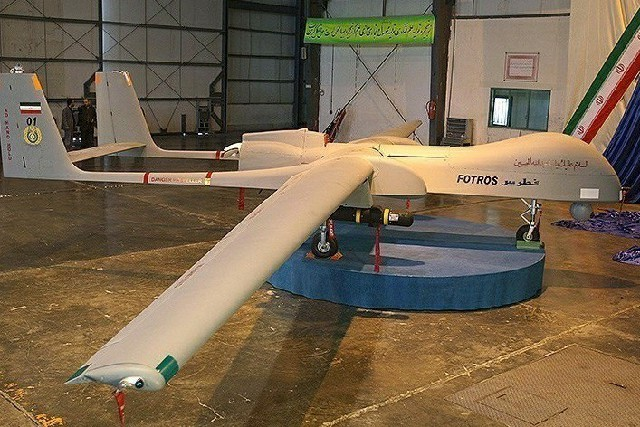maybay_khongnguoilai: (1, 65, 623, 387)
